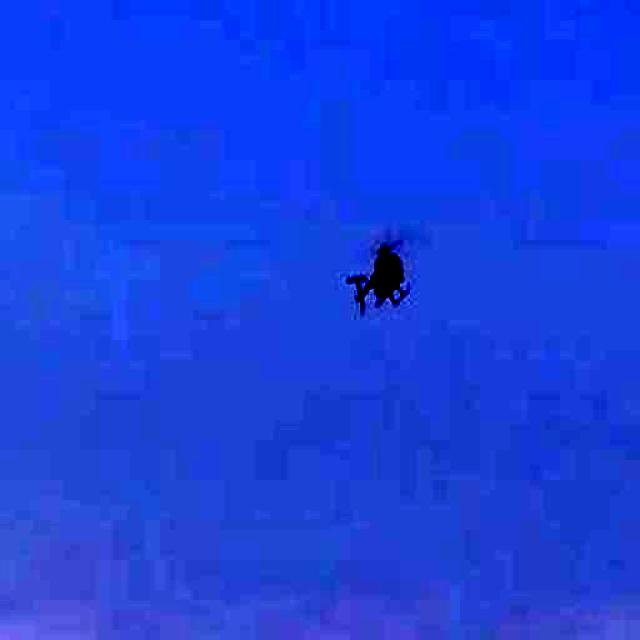drone: (321, 214, 445, 338)
